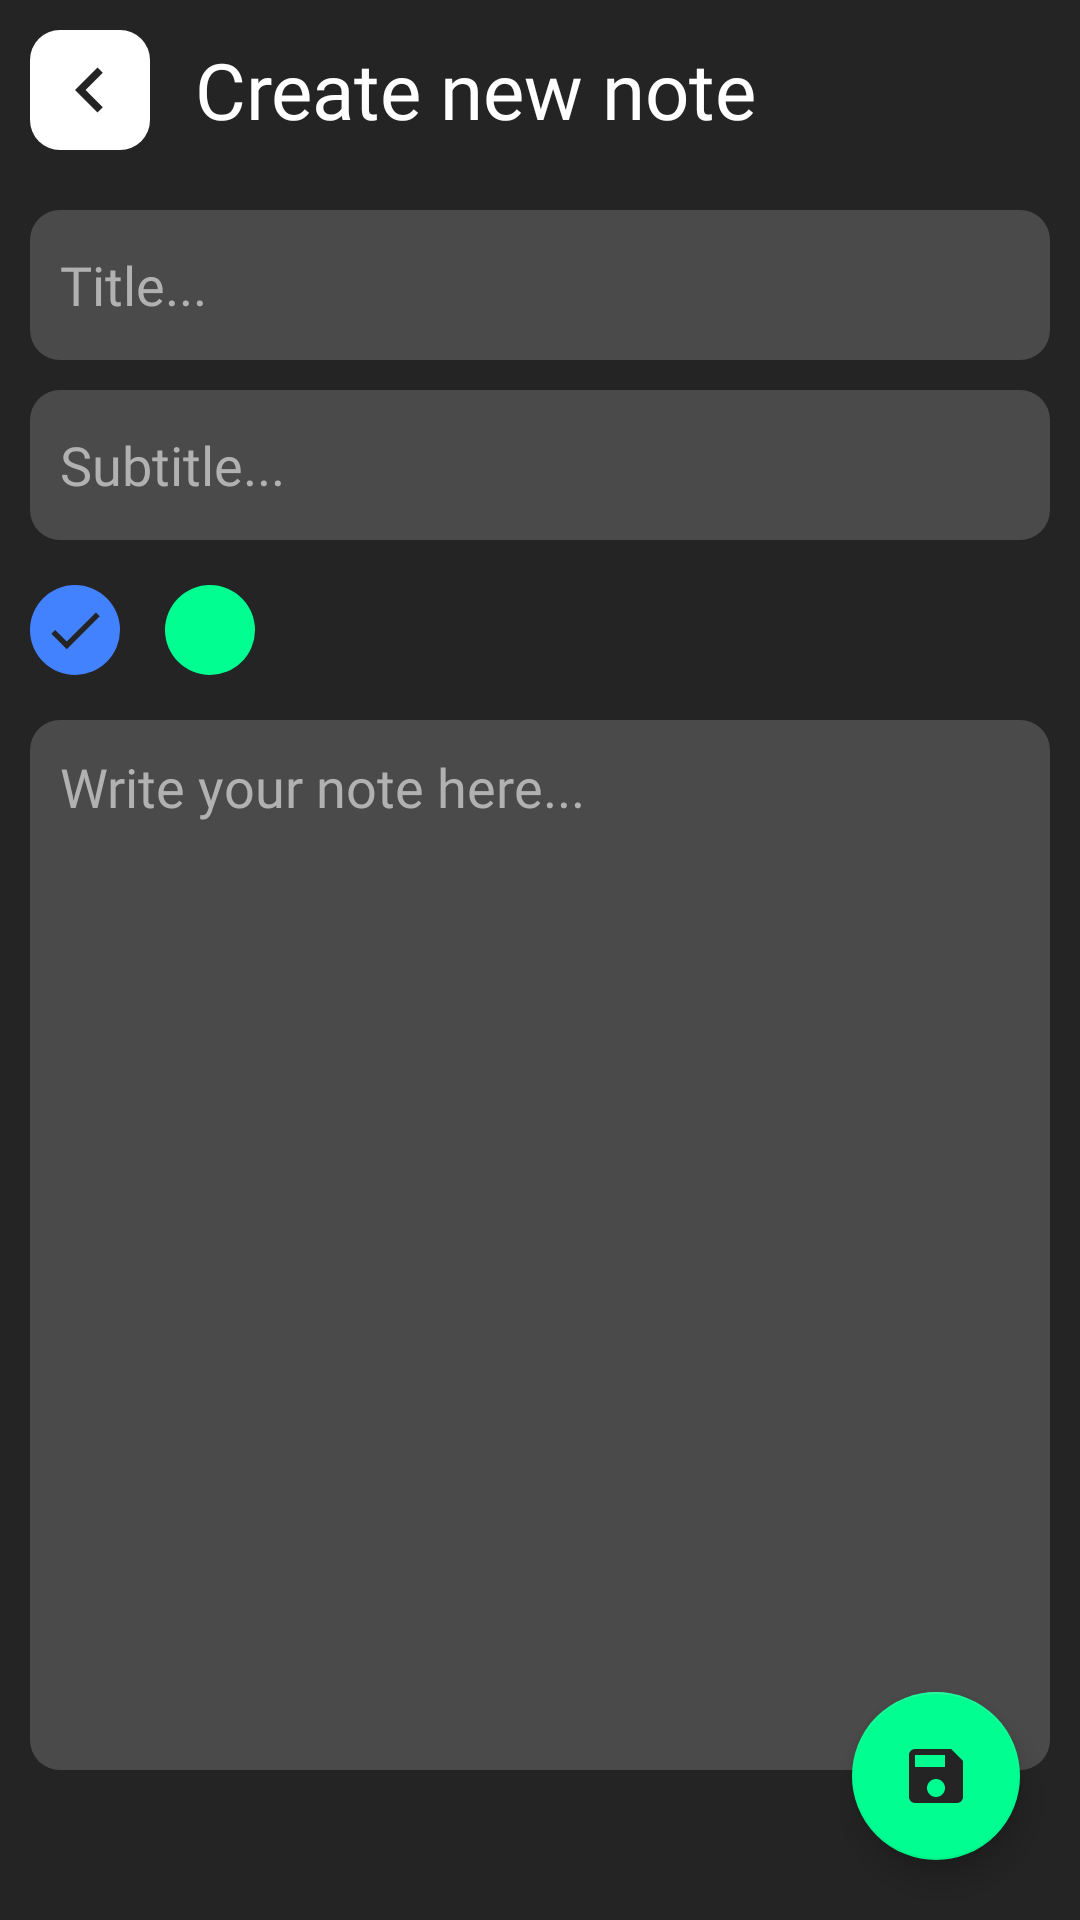

Point at icon controls on the screen. Image size 1080*1920, points as point (x, y).
arrow back: point (90, 90)
done: point (75, 630)
save: point (936, 1776)
